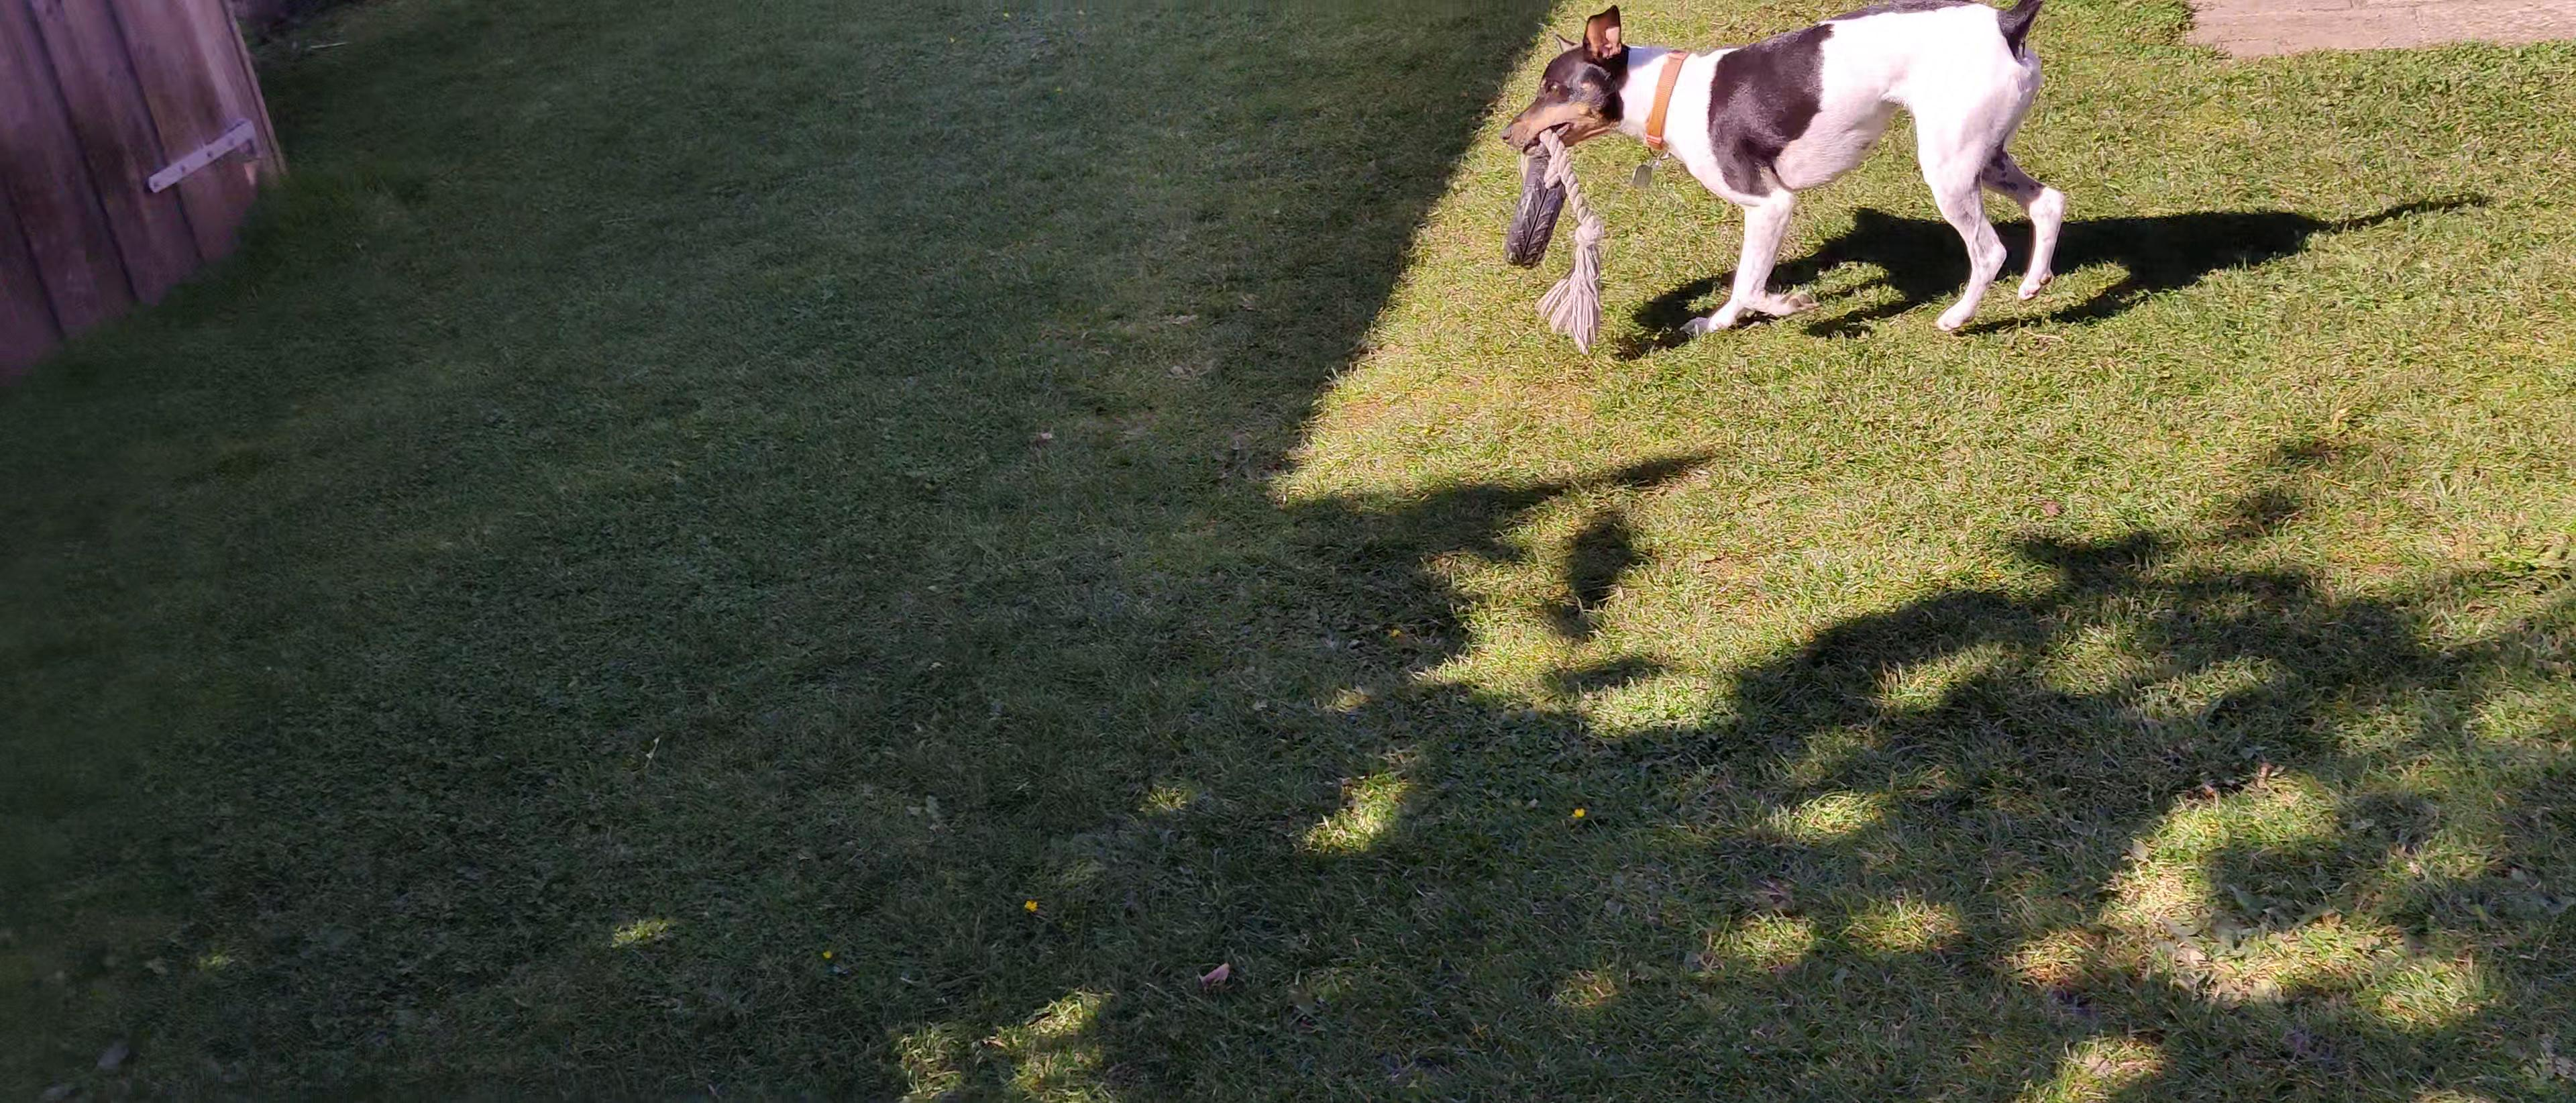Dog: (1490, 0, 2070, 350)
